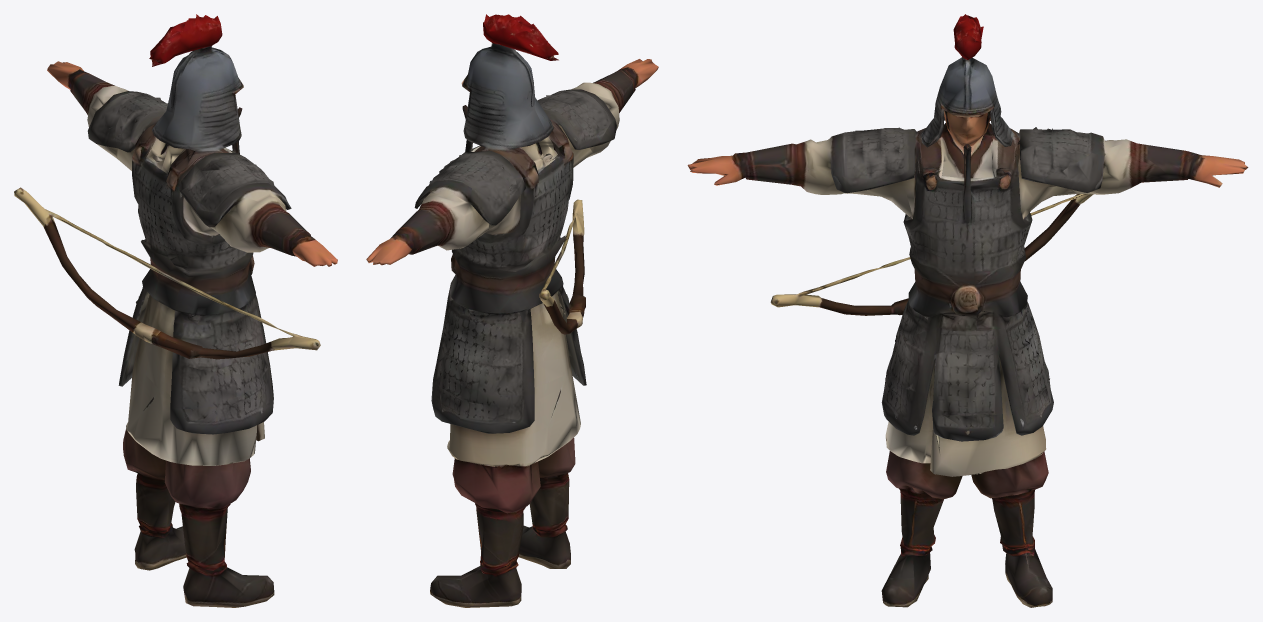
The model's file is soldier.glb.
3 views of the same model, side by side, from view 1: azimuth 30°, elevation 25°; view 2: azimuth 150°, elevation 25°; view 3: azimuth 270°, elevation 25° (orthographic).
Visible parts, largest first — view 1: tripo_node_e00a8123-f717-467a-9592-a854d311852a; view 2: tripo_node_e00a8123-f717-467a-9592-a854d311852a; view 3: tripo_node_e00a8123-f717-467a-9592-a854d311852a.
Boxes of the visible parts, <box> form: tripo_node_e00a8123-f717-467a-9592-a854d311852a: <box>14,14,337,607</box>; tripo_node_e00a8123-f717-467a-9592-a854d311852a: <box>366,14,658,607</box>; tripo_node_e00a8123-f717-467a-9592-a854d311852a: <box>687,14,1248,607</box>.
Bounding box in the file's own units: 0.3184 × 0.9997 × 0.8845.
1 material, 1 textured.
